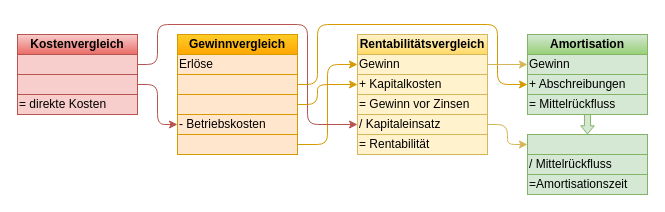
The diagram is 665 pixels wide and 212 high, and some of its shapes have lost their labels. Each missing label, with the box of its shape:
+ Betriebskosten: (16, 74, 138, 94)
- Abschreibungen: (176, 74, 298, 94)
- Kapitalkosten: (176, 94, 298, 114)
= Gewinn: (176, 134, 298, 154)
Anschaffungskosten: (16, 54, 138, 74)
Kapitaleinsatz: (526, 134, 648, 154)
